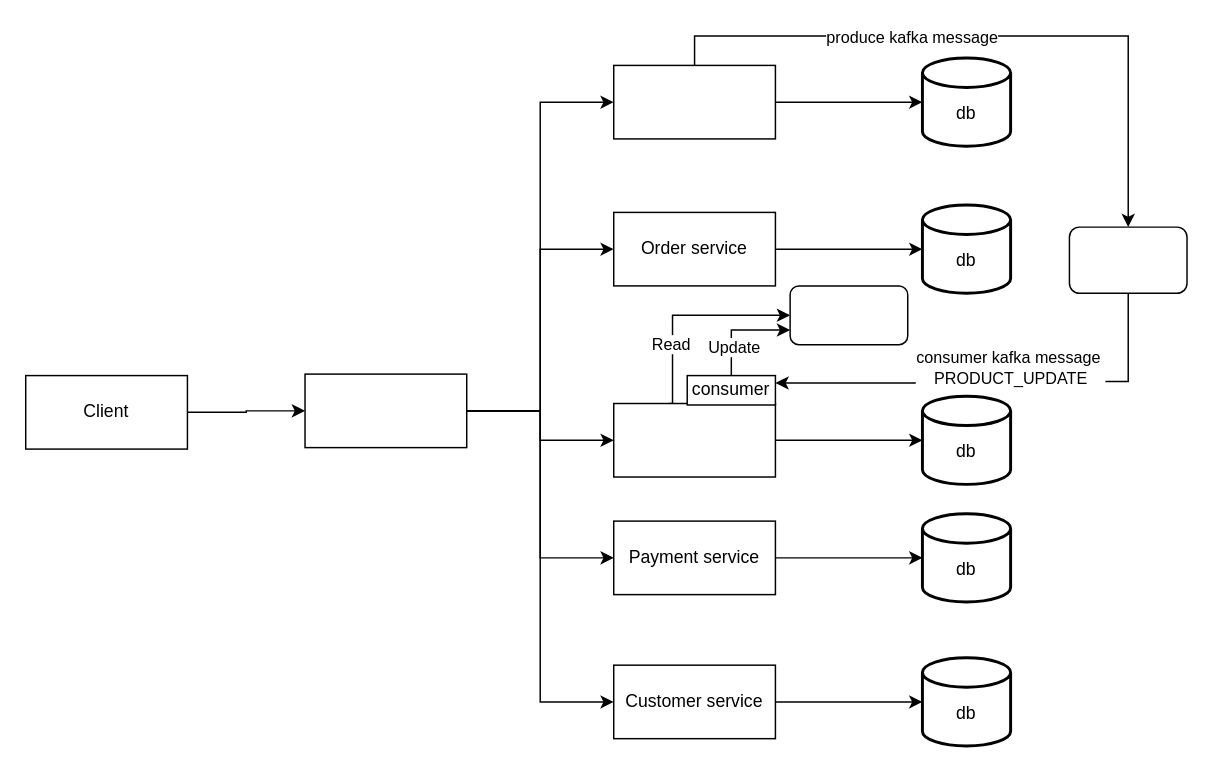
Some shapes in this 1213 by 773 pixel diagram are drawn without their labels. The centre of each missing label's shape, as x and y in pixels:
API Gateway: (x=385, y=410)
Inventory service: (x=693, y=101)
kafka: (x=1127, y=259)
Product service: (x=693, y=439)
Redis cashe: (x=848, y=314)
